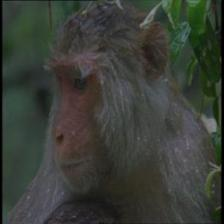monkey: (38, 0, 175, 200)
